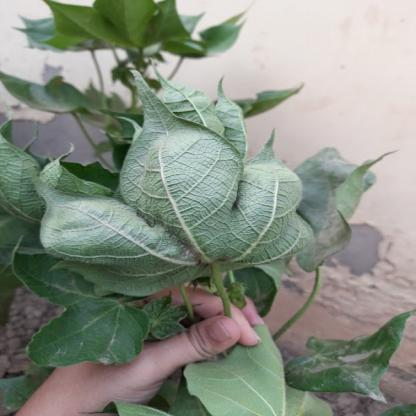curl_stage2: (135, 147, 242, 243), (79, 220, 204, 279), (240, 171, 299, 254), (163, 81, 220, 139)
healthy: (222, 362, 285, 416)
